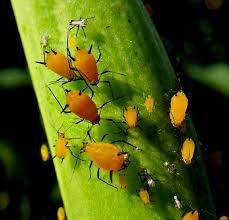Insects: (46, 83, 135, 146), (62, 29, 120, 98), (77, 131, 136, 187), (34, 34, 80, 87), (155, 76, 191, 134), (49, 120, 80, 169), (172, 133, 203, 165), (133, 185, 162, 210)
